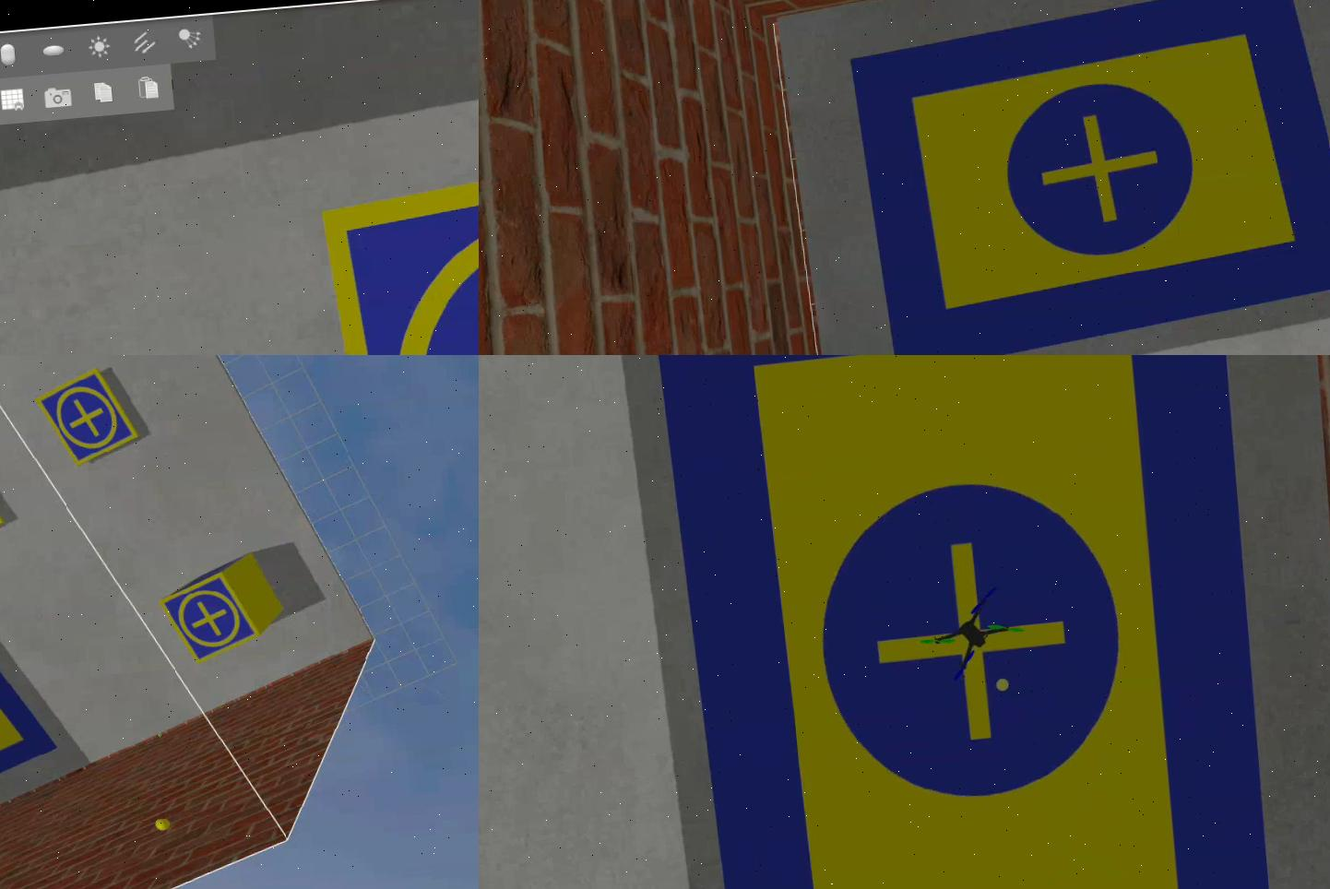large_base: (643, 356, 1280, 889), (847, 1, 1330, 356), (1, 587, 60, 800)
small_base: (320, 123, 480, 356), (36, 367, 146, 468), (161, 571, 264, 667)
